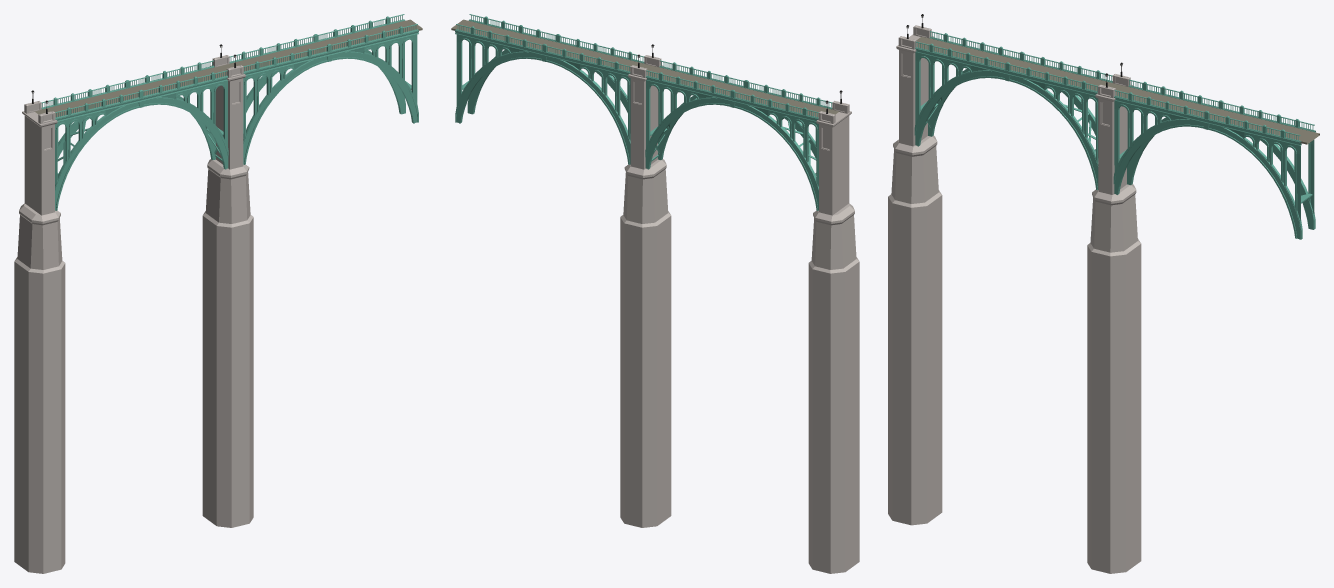
The model's file is bridge2.fbx.
The picture shows the model from 3 angles, left to right: view 1: azimuth 30°, elevation 25°; view 2: azimuth 150°, elevation 25°; view 3: azimuth 330°, elevation 25°; orthographic projection. The views are drawn at different scales.
Parts seen in each view (by area): view 1: Unity_Export_Mesh; view 2: Unity_Export_Mesh; view 3: Unity_Export_Mesh.
Boxes of the visible parts, bbox=[...] form: Unity_Export_Mesh: bbox=[14, 14, 422, 573]; Unity_Export_Mesh: bbox=[451, 14, 859, 573]; Unity_Export_Mesh: bbox=[888, 14, 1319, 573].
Bounding box in the file's own units: 2394 × 2704 × 264.
